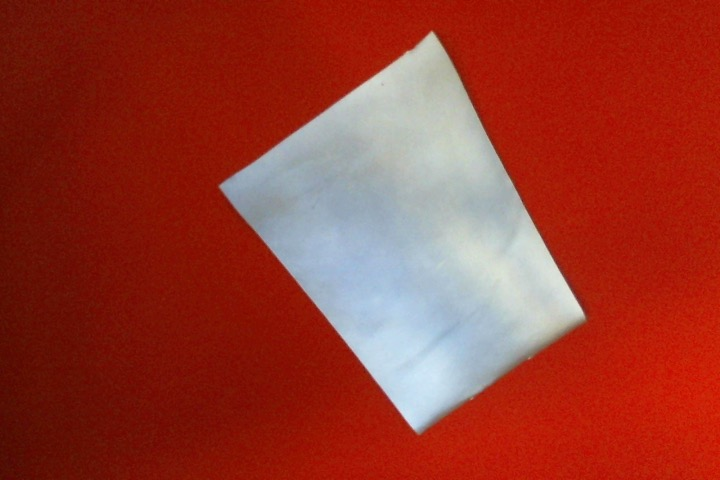Tape: (219, 31, 588, 439)
